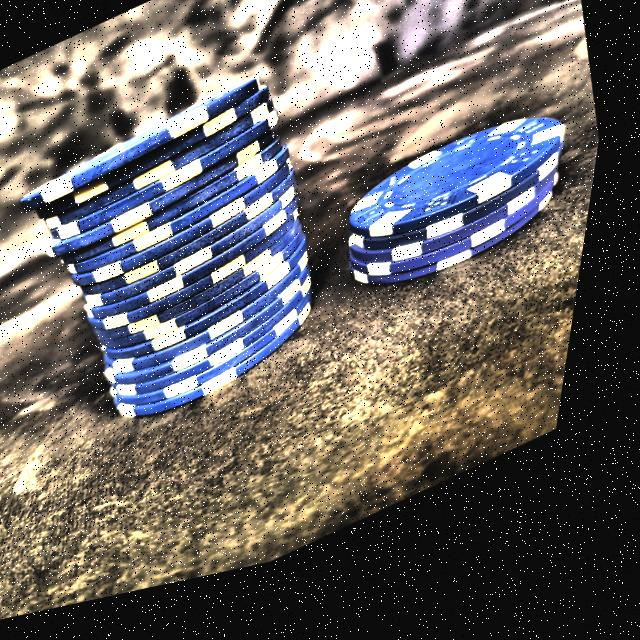Chip: (0, 49, 390, 501), (325, 97, 601, 350)
